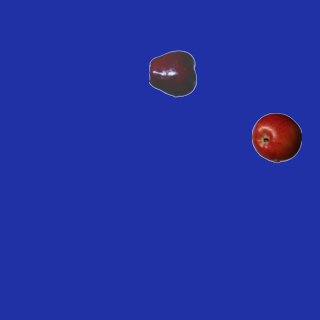Apple Braeburn: (251, 112, 301, 162)
Apple Red Delicious: (148, 48, 198, 98)
